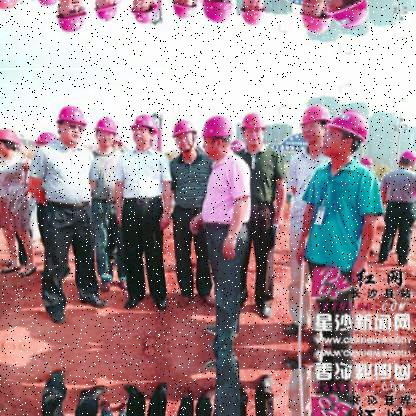Helmet: (319, 113, 379, 162), (198, 110, 233, 166), (298, 98, 330, 158), (50, 102, 88, 148), (237, 104, 264, 152), (132, 108, 162, 150), (323, 0, 367, 28), (298, 0, 332, 36), (53, 0, 84, 32), (176, 114, 200, 152), (0, 122, 24, 160), (200, 0, 236, 25), (93, 114, 118, 150), (132, 0, 160, 28), (392, 146, 415, 178), (90, 0, 122, 19), (245, 0, 268, 25), (174, 0, 198, 19)
